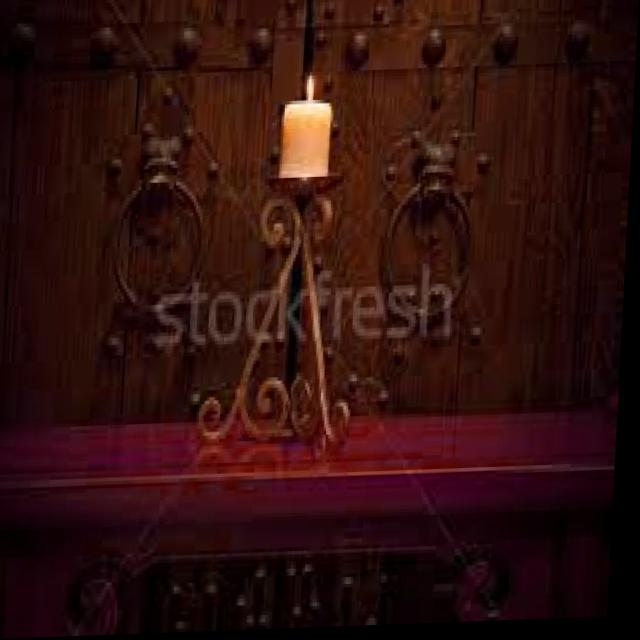fire: (300, 60, 318, 106)
